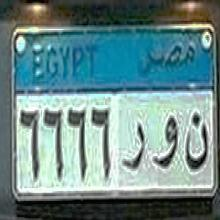6: (90, 104, 115, 179), (19, 103, 41, 180), (67, 101, 88, 179), (44, 103, 64, 181)
noon: (182, 104, 210, 176)
raa: (121, 112, 148, 178)
waw: (152, 111, 178, 168)
